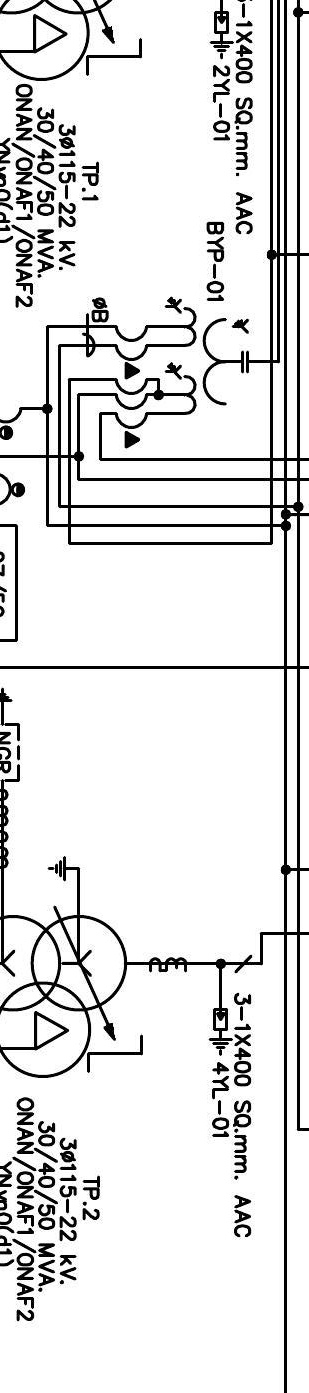115_cvt_3p: (164, 296, 249, 416)
115_la: (208, 1008, 234, 1057), (209, 11, 235, 60)
